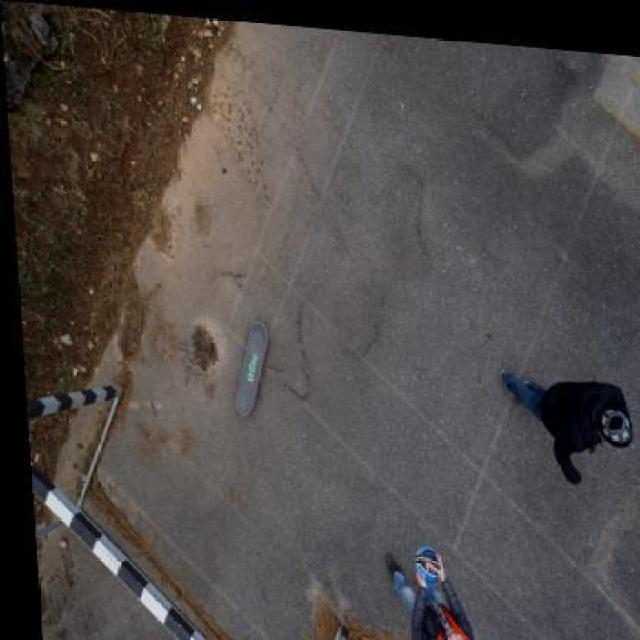Person: (488, 350, 638, 484), (369, 534, 482, 638)
